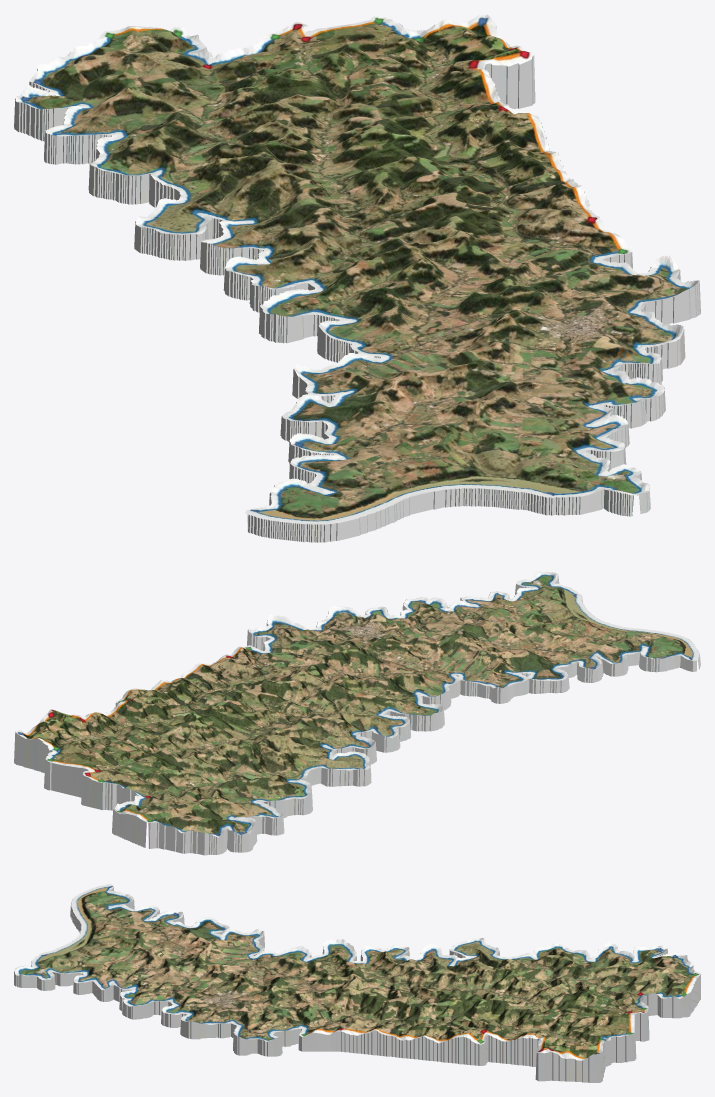
The picture shows the model from 3 angles, top to bottom: view 1: azimuth 30°, elevation 25°; view 2: azimuth 150°, elevation 25°; view 3: azimuth 270°, elevation 25°; orthographic projection. The views are drawn at different scales.
Bounding box in the file's own units: 1 × 0.0753 × 1.54.
Materials: 1 (1 with a texture image).
